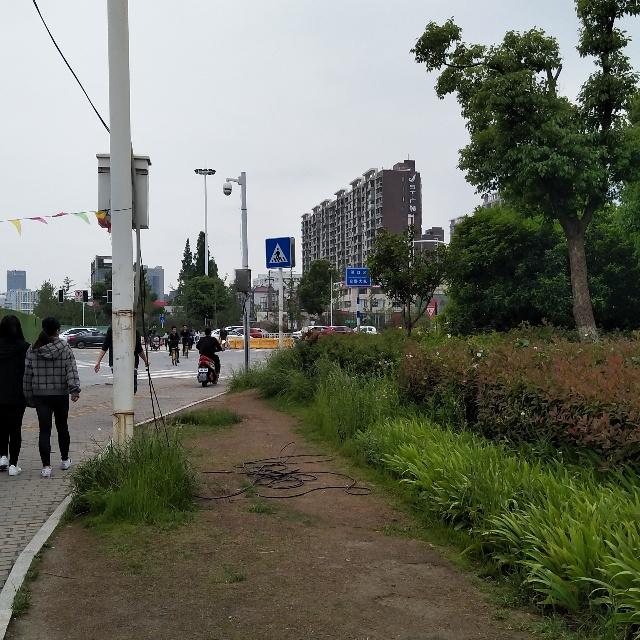crosswalk: (264, 237, 294, 268)
